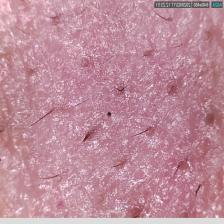Dry: (0, 13, 224, 212)
